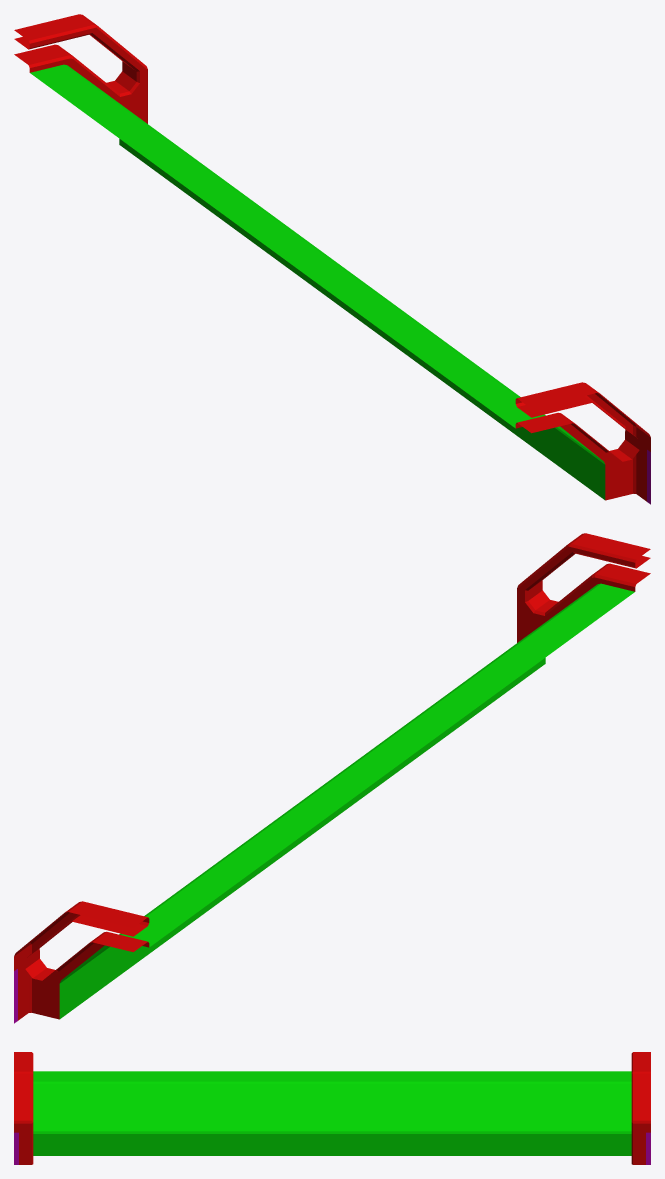
File: PlainteDroite.FBX
3 views of the same model, one above another, from view 1: azimuth 30°, elevation 25°; view 2: azimuth 150°, elevation 25°; view 3: azimuth 270°, elevation 25° (orthographic). The views are drawn at different scales.
Parts seen in each view (by area): view 1: plante; view 2: plante; view 3: plante.
Part boxes in pixels (x1,y1,x2,y2): plante: [14, 14, 650, 504]; plante: [14, 533, 650, 1023]; plante: [14, 1052, 650, 1164].
Bounding box in the file's own units: 20 × 20 × 150.
